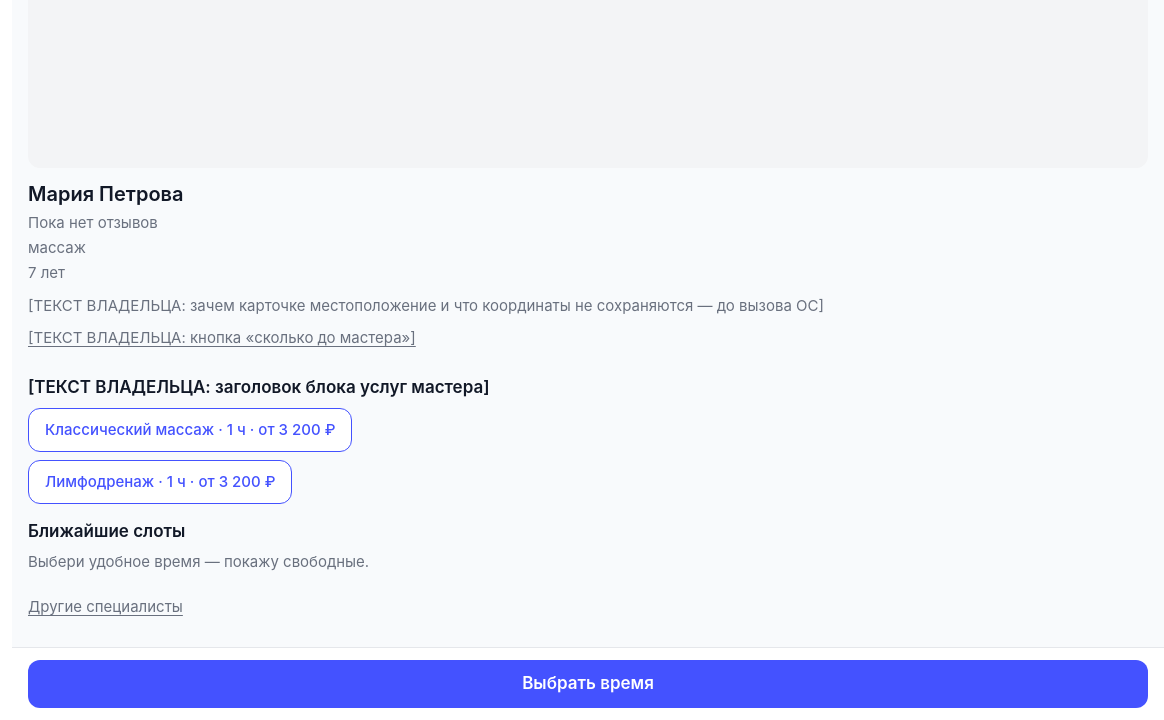
Scenario: запись с карточки › возврат с экрана времени — карточка и её услуги на месте
(page scrolled)
Click the button "Лимфодренаж · 1 ч · от 3 200 ₽". click: {"x": 160, "y": 482}
box: [28,460,292,504]
(page scrolled)
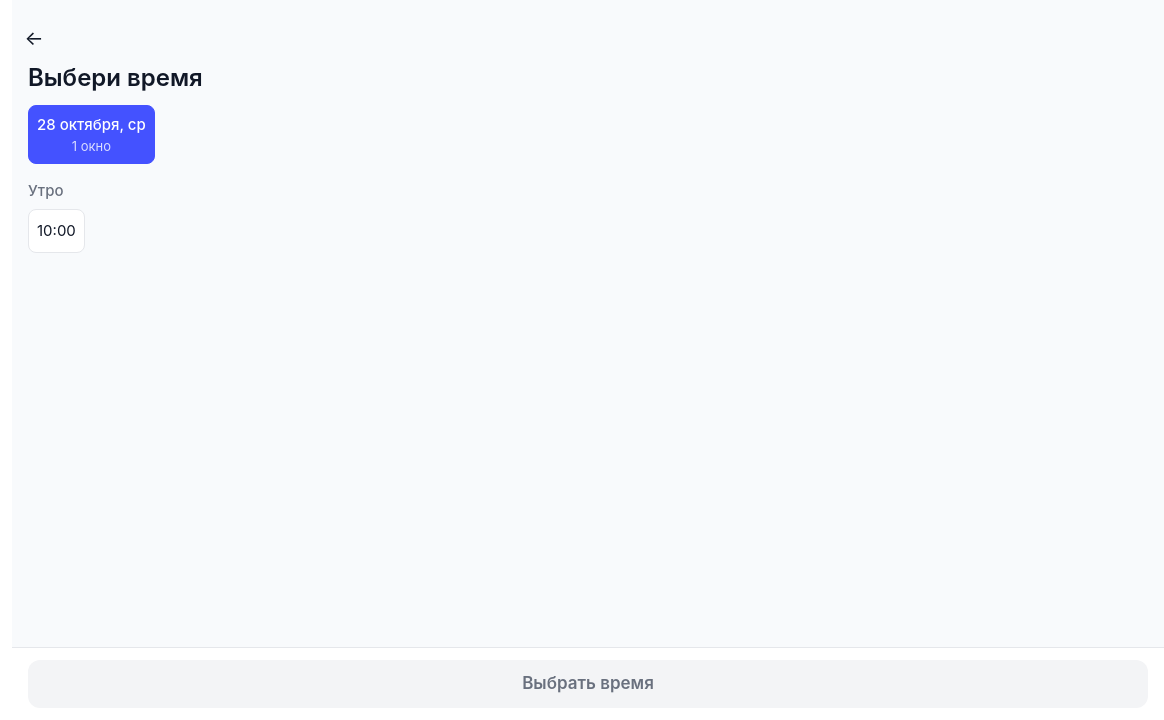
Expected: the button "10:00" is shown, [28,209,85,253]
Click the button named "Назад". click: {"x": 34, "y": 38}
box: [12,16,56,60]
(page scrolled)
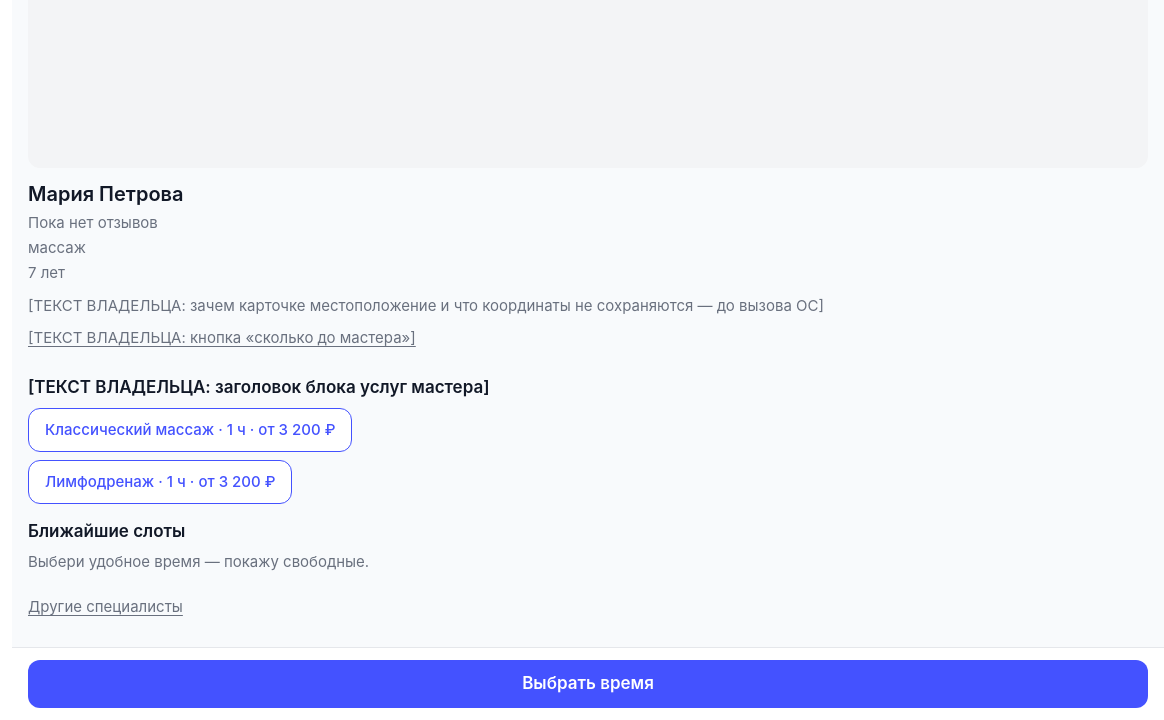
Expected: the heading "[ТЕКСТ ВЛАДЕЛЬЦА: заголовок блока услуг мастера]" is shown, [28,377,490,397]
